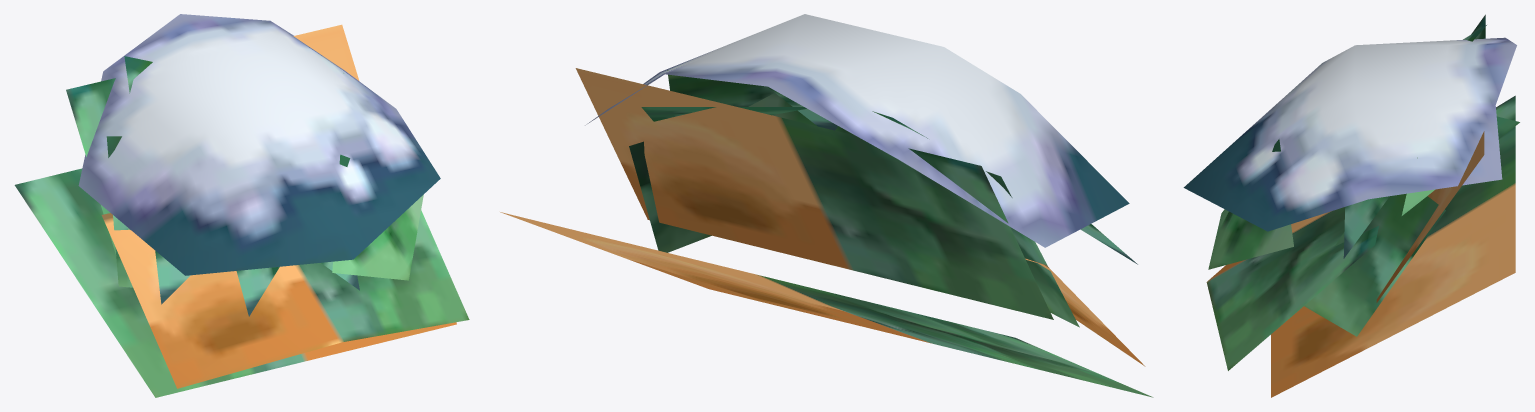
Rendered from fg_bushD_2_s.dae.
The picture shows the model from 3 angles, left to right: view 1: azimuth 30°, elevation 25°; view 2: azimuth 150°, elevation 25°; view 3: azimuth 270°, elevation 25°; orthographic projection. The views are drawn at different scales.
Parts seen in each view (by area): view 1: fg_bushD_2_s; view 2: fg_bushD_2_s; view 3: fg_bushD_2_s.
Boxes of the visible parts, x1,y1,x2,y2 form: fg_bushD_2_s: [14, 14, 469, 397]; fg_bushD_2_s: [500, 14, 1153, 397]; fg_bushD_2_s: [1183, 14, 1519, 397].
Size of the model in its own units: 47.83 by 34.27 by 38.41.
1 material, 1 textured.
